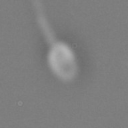normal: (25, 1, 56, 45)
